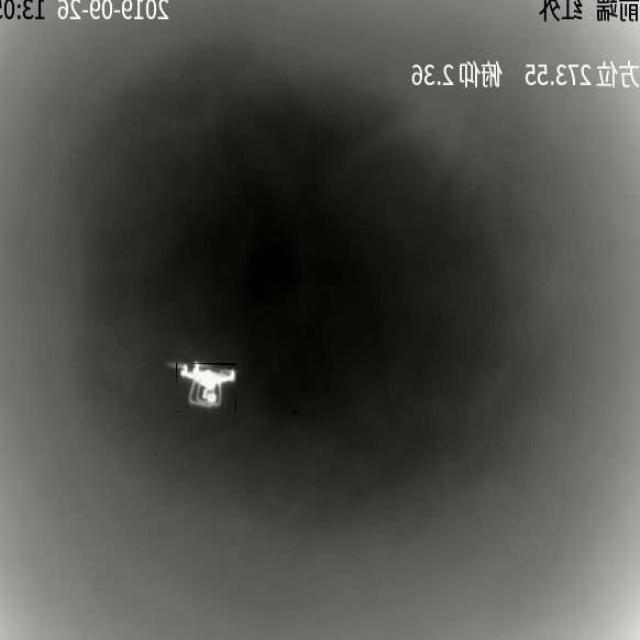drone: (176, 363, 236, 412)
